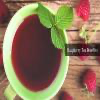Raspberry leaf: (36, 1, 54, 29), (56, 5, 74, 29), (50, 26, 66, 51)
